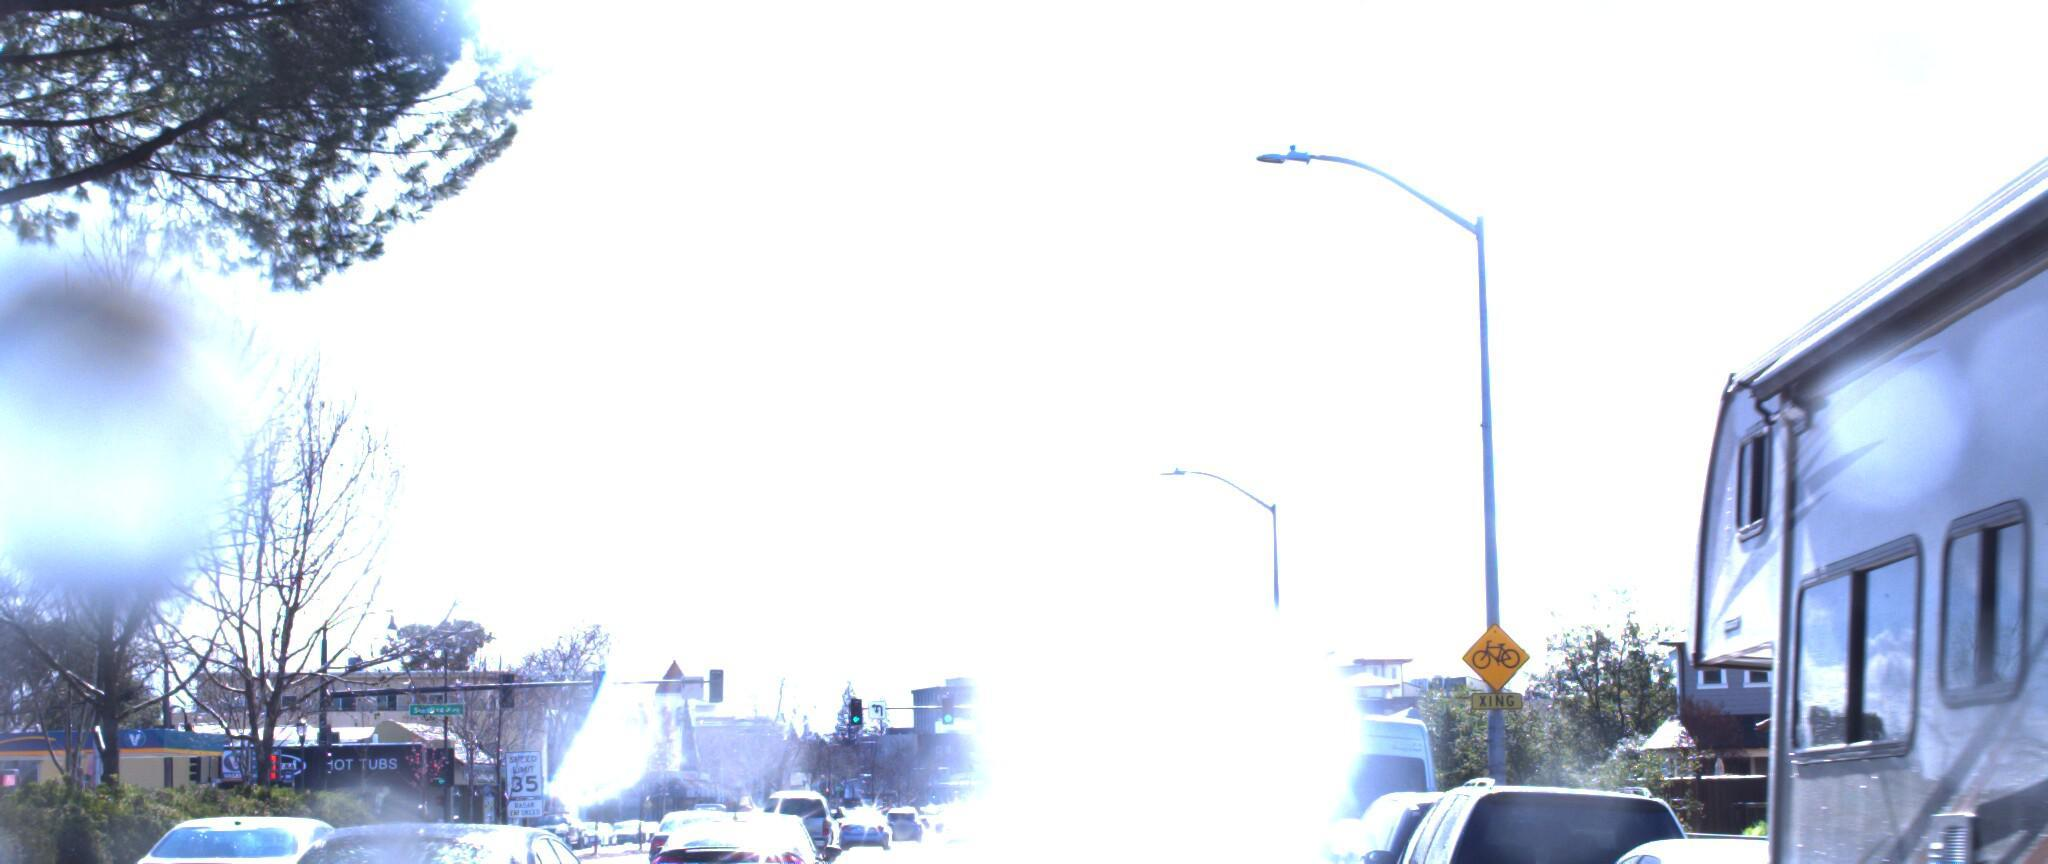car: (1224, 689, 1458, 864), (1340, 770, 1758, 864), (1288, 783, 1613, 864), (1477, 820, 2048, 864), (184, 812, 667, 864), (1204, 748, 1375, 864), (107, 807, 398, 864), (1181, 769, 1331, 864), (635, 800, 837, 864), (755, 777, 844, 842)
other_vehicle: (1580, 0, 2048, 864)
